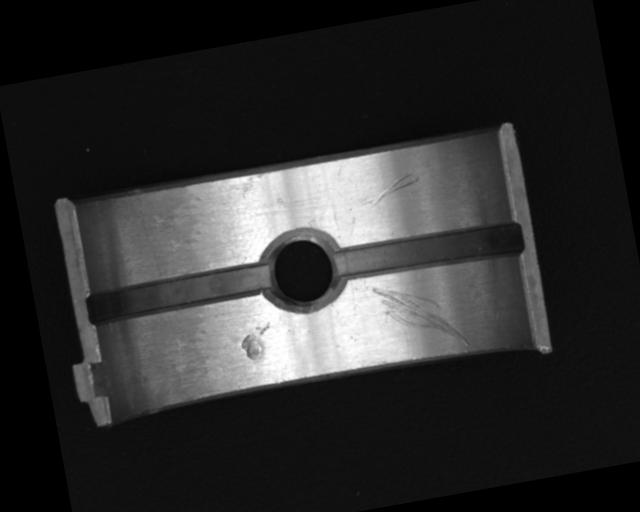bruise: (238, 321, 275, 361)
gap: (331, 217, 524, 286), (85, 259, 274, 325)
hole: (258, 225, 344, 314)
nick: (370, 273, 468, 361), (361, 171, 422, 209)
